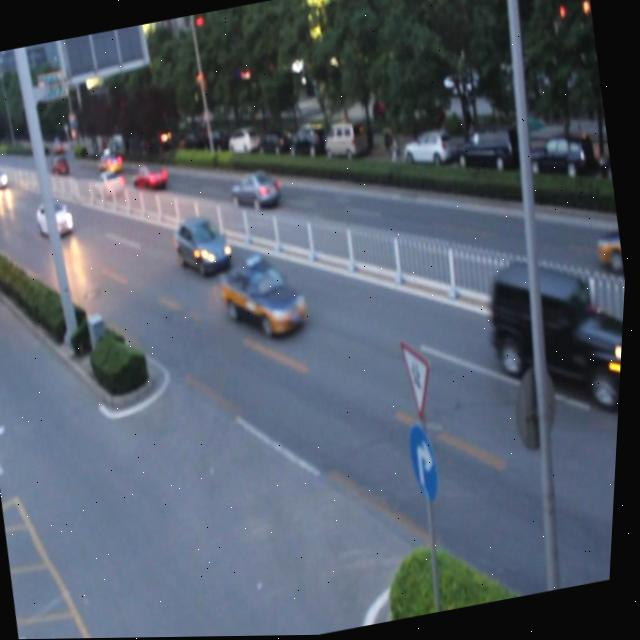car: (487, 247, 630, 418), (223, 257, 313, 342), (174, 212, 235, 271), (25, 615, 140, 639), (232, 170, 282, 213), (36, 199, 77, 236), (131, 161, 170, 190), (95, 168, 127, 196)
